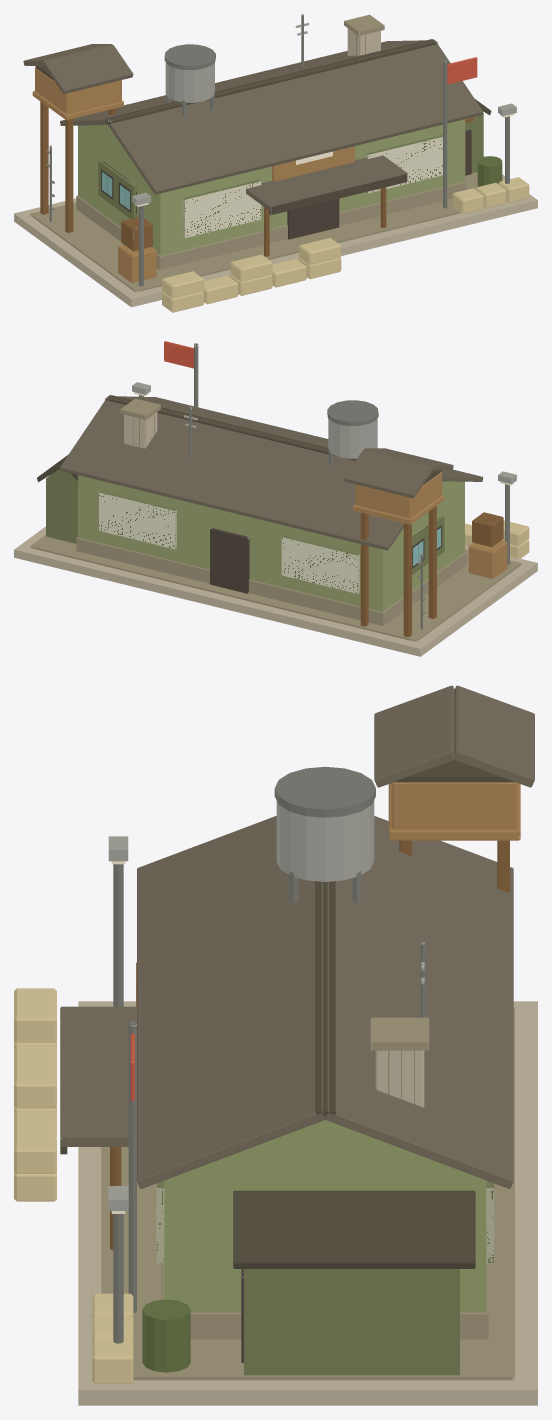
File: barracks.glb
3 views of the same model, one above another, from view 1: azimuth 30°, elevation 25°; view 2: azimuth 150°, elevation 25°; view 3: azimuth 270°, elevation 25° (orthographic). The views are drawn at different scales.
Parts seen in each view (by area): view 1: Barracks, Lv2, Lv1; view 2: Barracks, Lv2, Lv1; view 3: Barracks, Lv1, Lv2.
Part boxes in pixels (<box>): Barracks: <box>14,14,537,312</box>; Lv2: <box>23,14,529,286</box>; Lv1: <box>164,44,491,208</box>; Barracks: <box>14,395,537,656</box>; Lv2: <box>132,382,516,637</box>; Lv1: <box>37,341,378,543</box>; Barracks: <box>14,816,537,1405</box>; Lv1: <box>128,766,475,1375</box>; Lv2: <box>92,685,534,1383</box>.
Bounding box in the file's own units: 16 × 6.65 × 9.12.
Materials: 1 (1 with a texture image).
